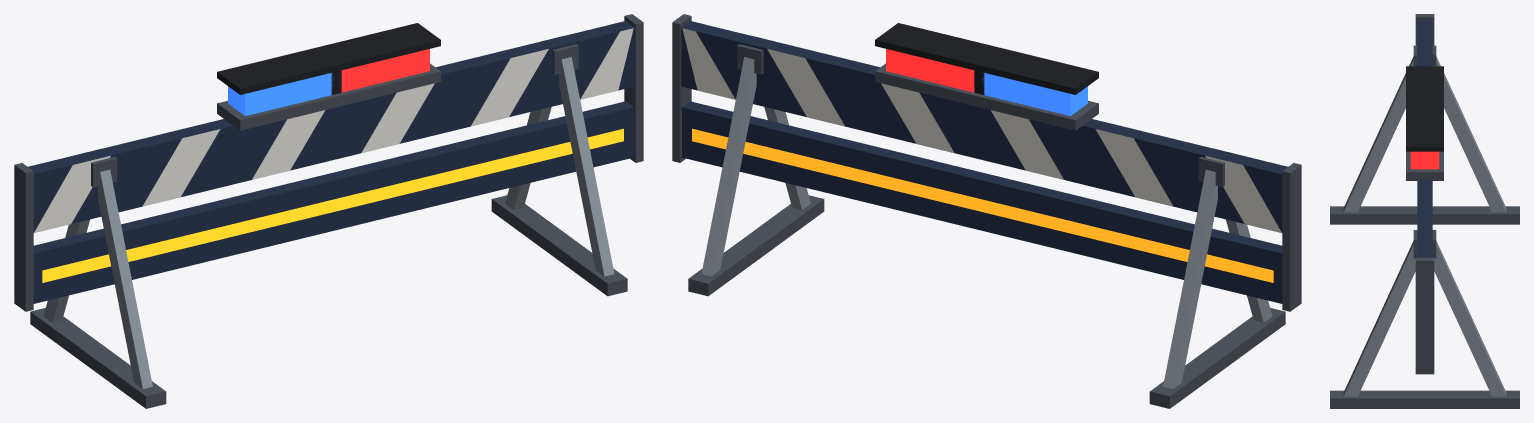
Rendered from police_barrier.glb.
3 views of the same model, side by side, from view 1: azimuth 30°, elevation 25°; view 2: azimuth 150°, elevation 25°; view 3: azimuth 270°, elevation 25° (orthographic). The views are drawn at different scales.
Parts seen in each view (by area): view 1: Body, LightBar; view 2: Body, LightBar; view 3: Body, LightBar.
Boxes of the visible parts, x1,y1,x2,y2 form: Body: (14, 14, 643, 408); LightBar: (217, 23, 440, 130); Body: (672, 14, 1301, 408); LightBar: (875, 23, 1098, 130); Body: (1330, 14, 1519, 408); LightBar: (1406, 66, 1443, 180).
Size of the model in its own units: 3.08 by 1.2 by 1.
